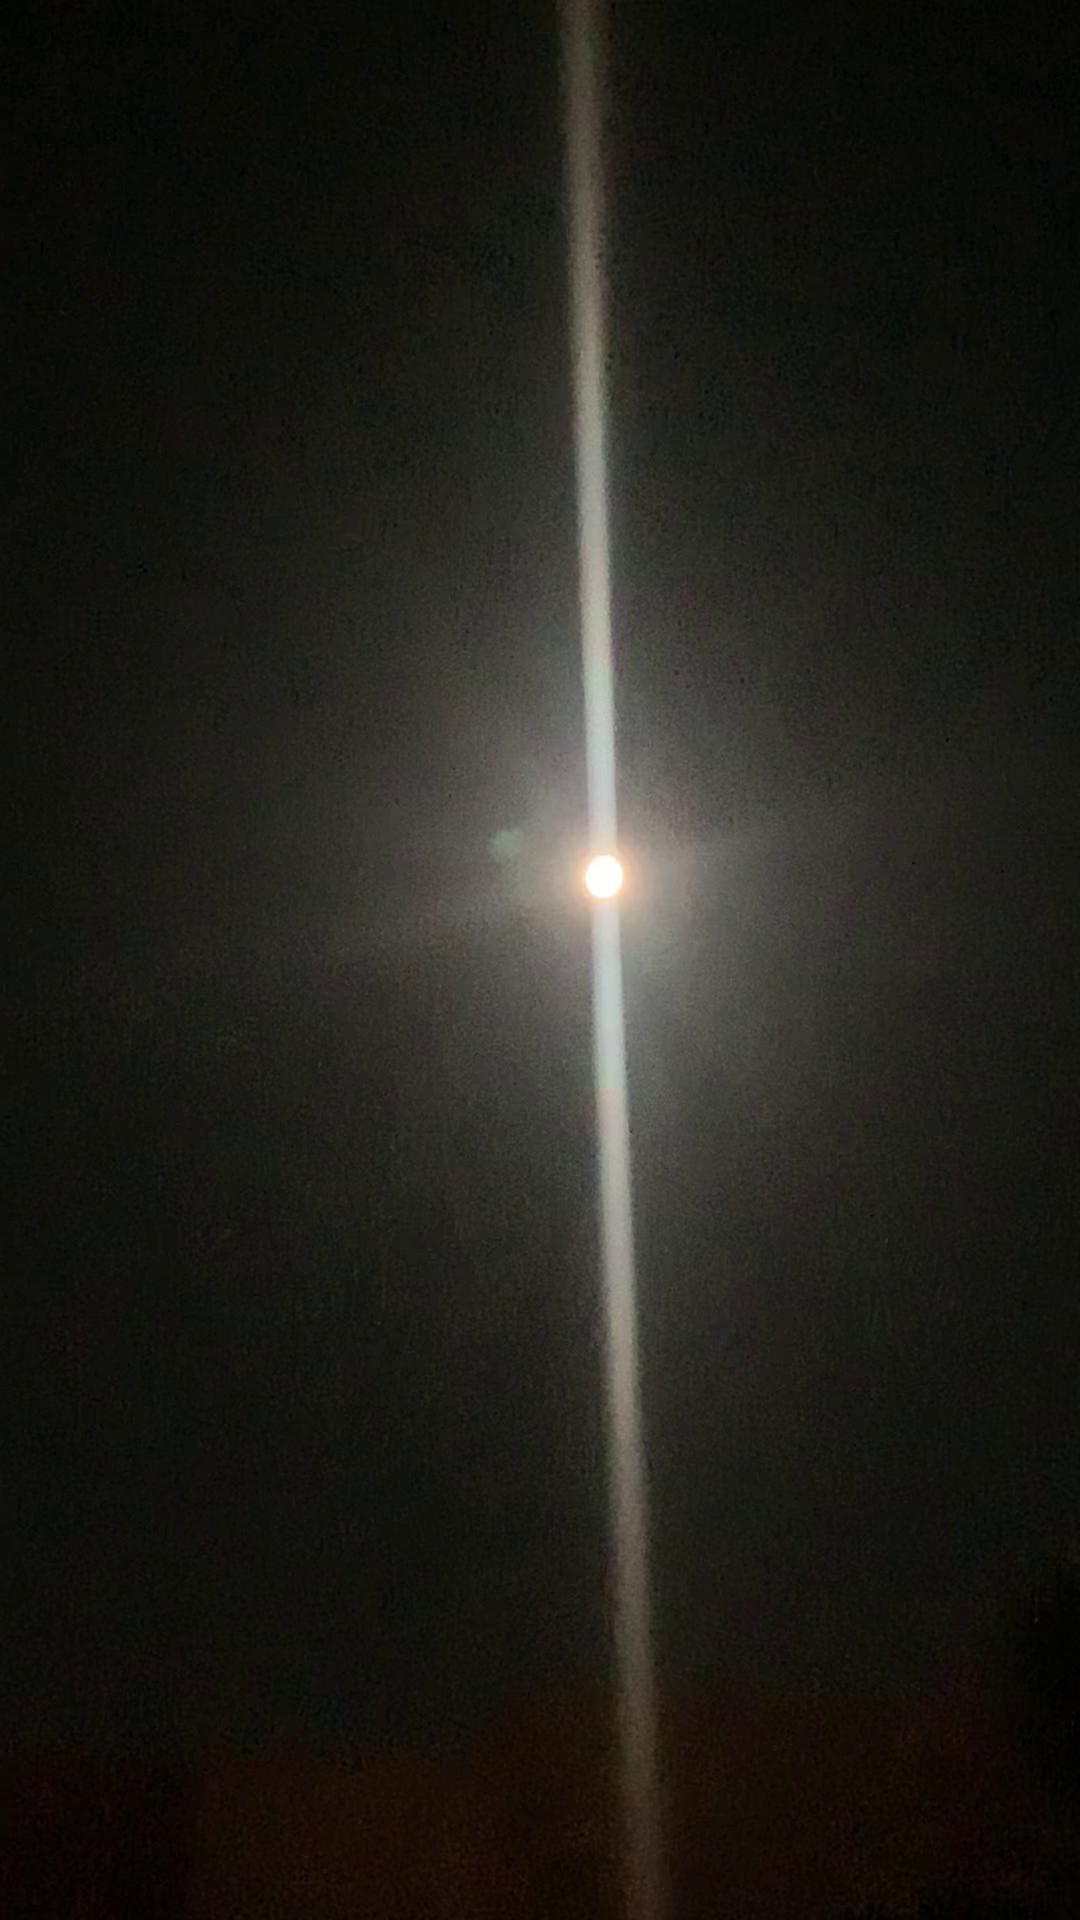moon: (554, 828, 671, 931)
